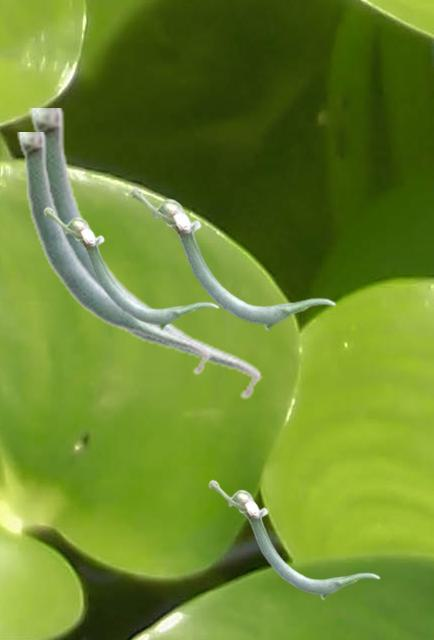french_bean: (29, 108, 261, 400), (17, 132, 210, 375), (129, 186, 335, 330), (43, 206, 218, 329), (208, 479, 379, 599)
